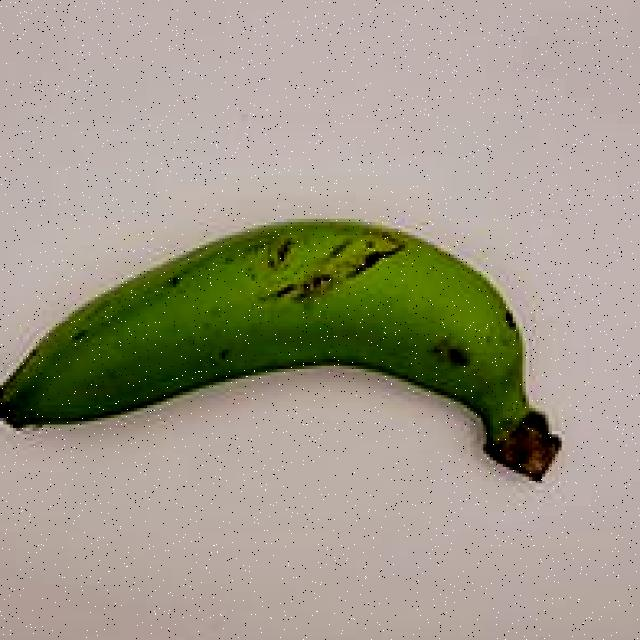Raw: (0, 186, 581, 519)
